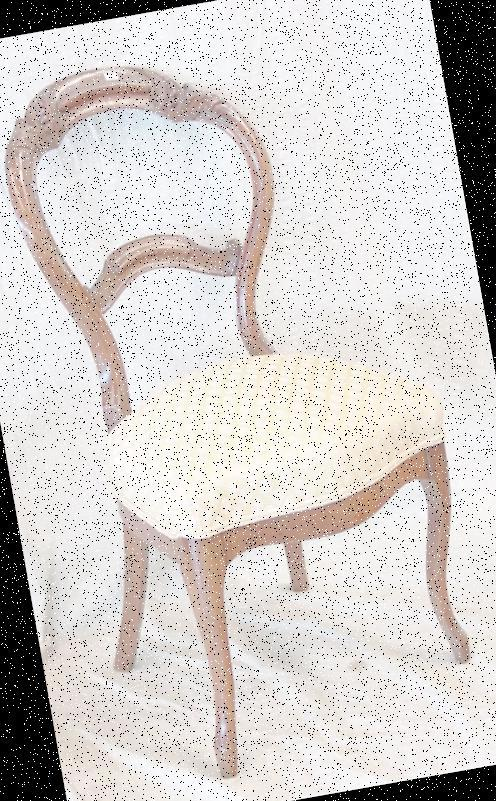Silla: (0, 28, 491, 800)
